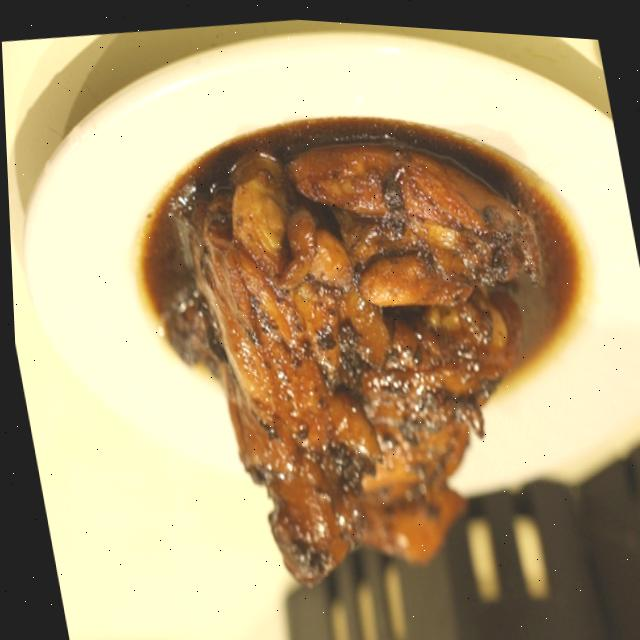鸡肉料理 含炸鸡: (15, 14, 640, 636)
